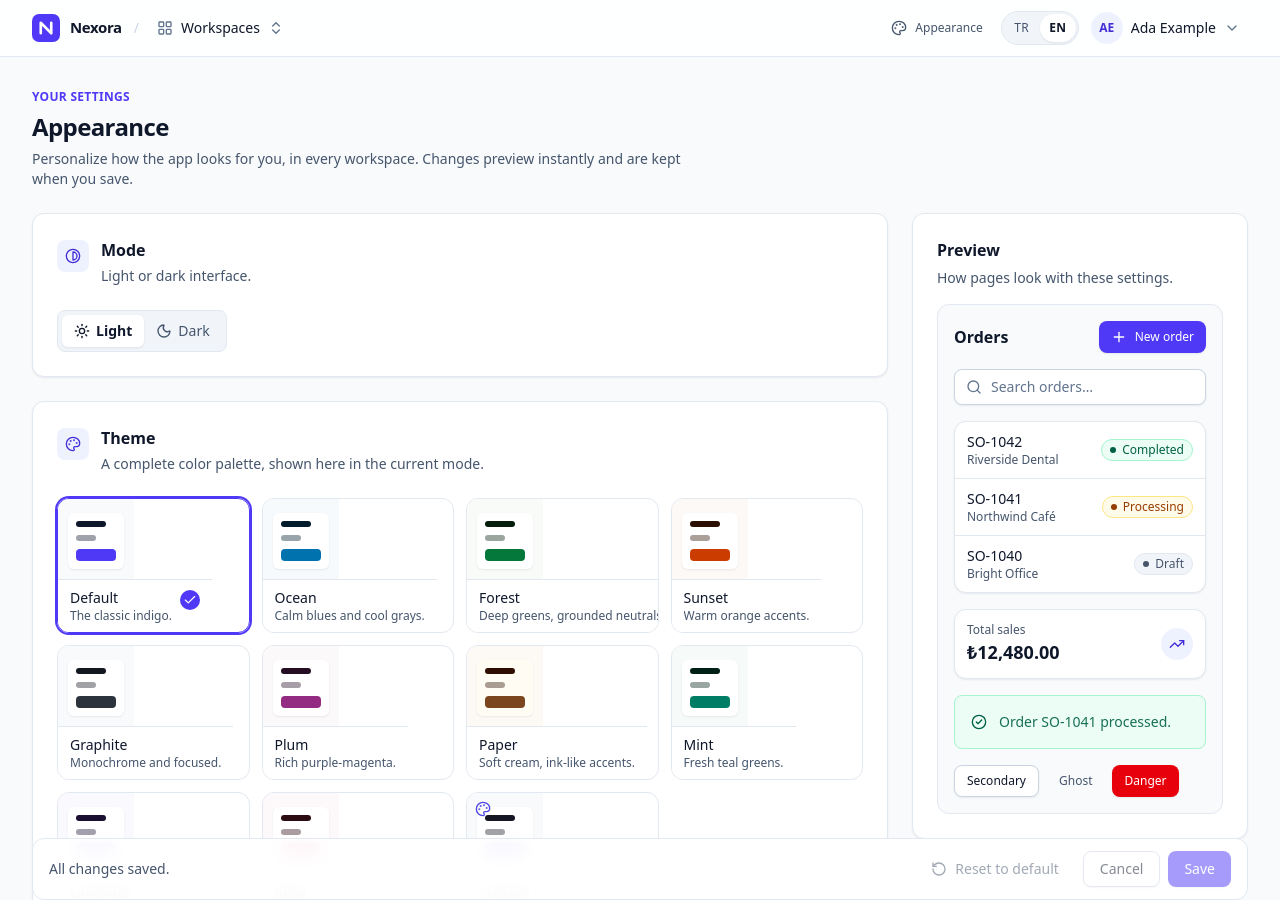
AppearancePage › saves the previewed appearance
Expected: the heading "Appearance" is shown, [32,110,169,143]
Click the radio button with aria-label "Sunset theme" at point(767, 566), box [670,498,863,633]
(page scrolled)
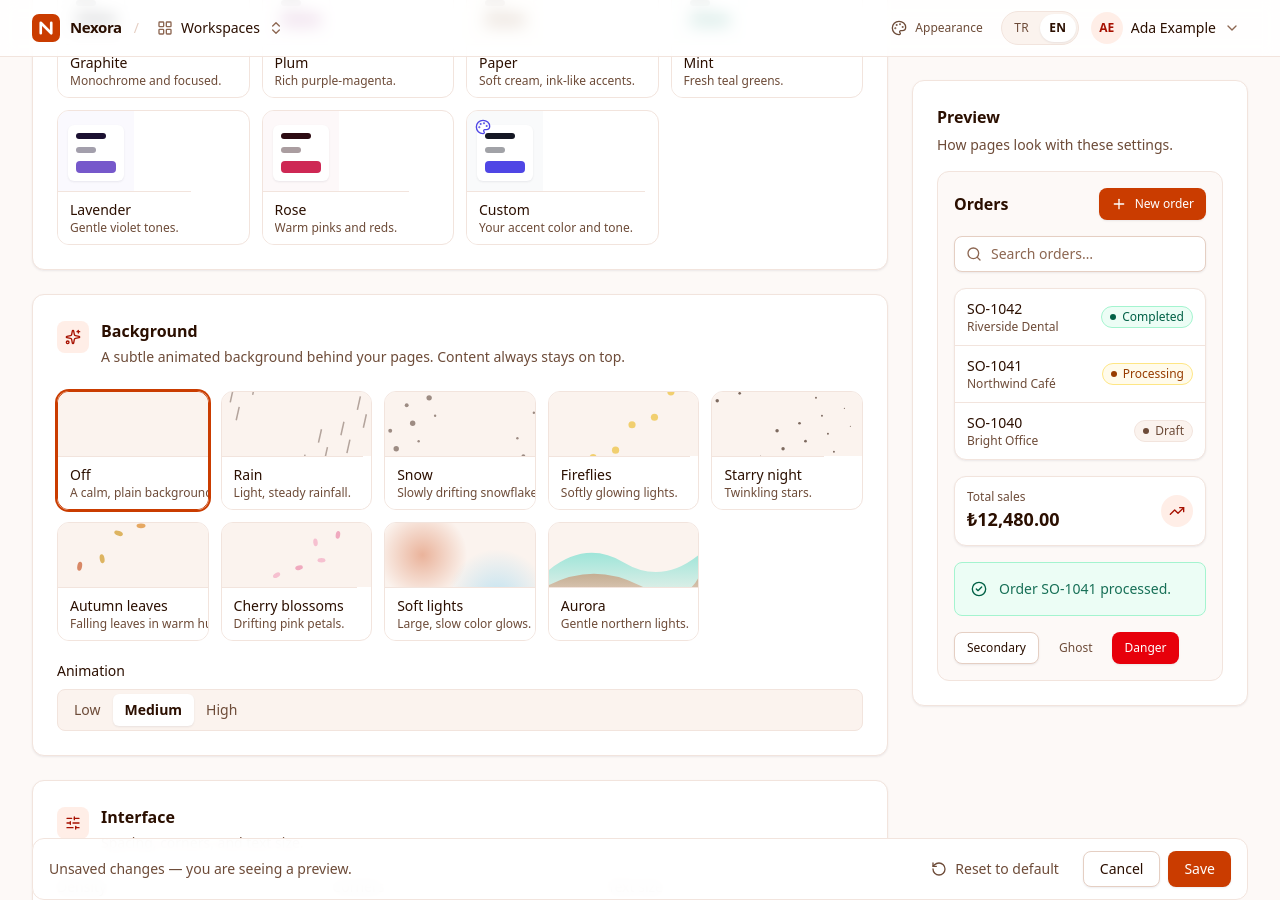
Click the radio button with aria-label "Snow background" at point(460, 450), box [384,391,536,510]
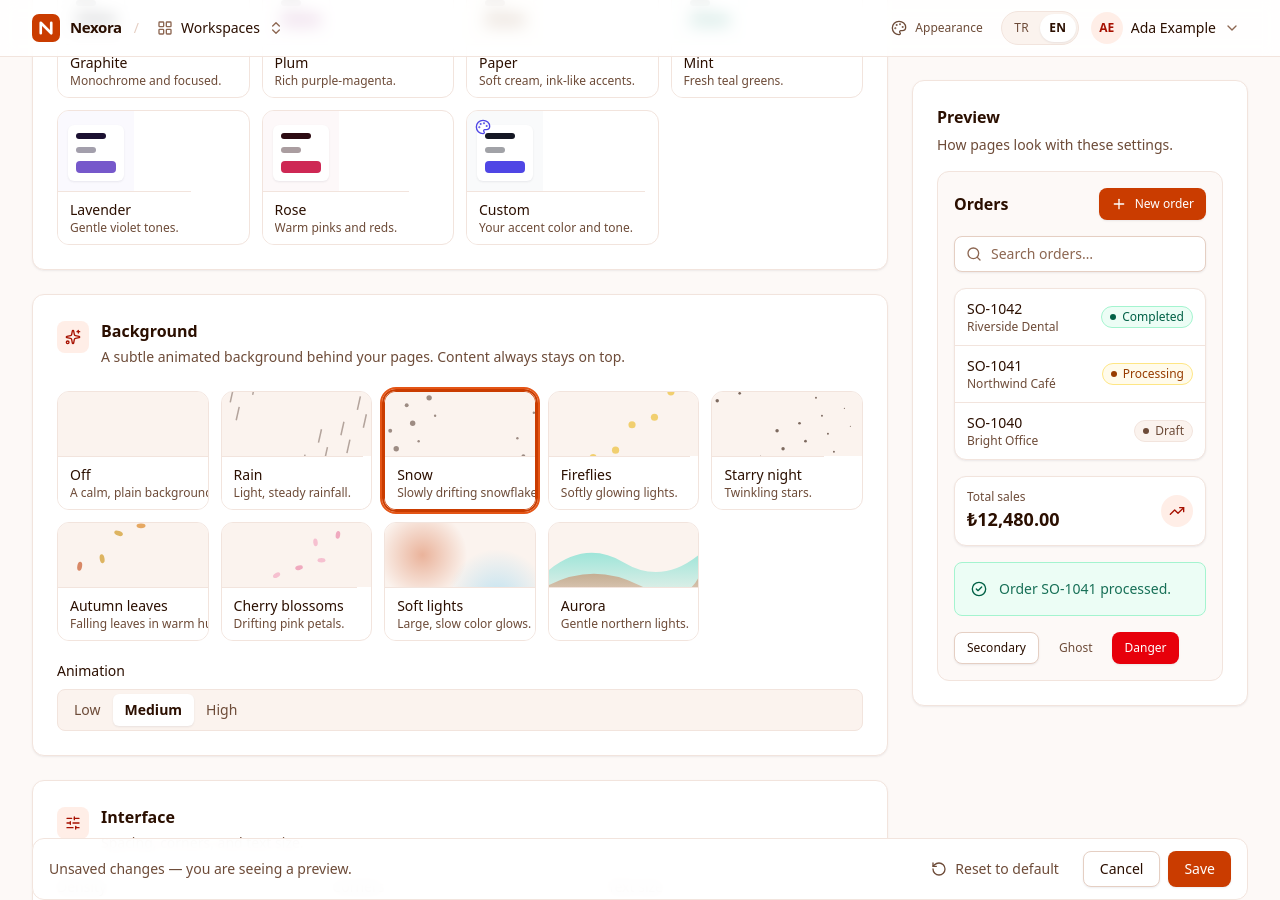
Click the radio button labelled "Low" at point(87, 710), box [62,694,112,726]
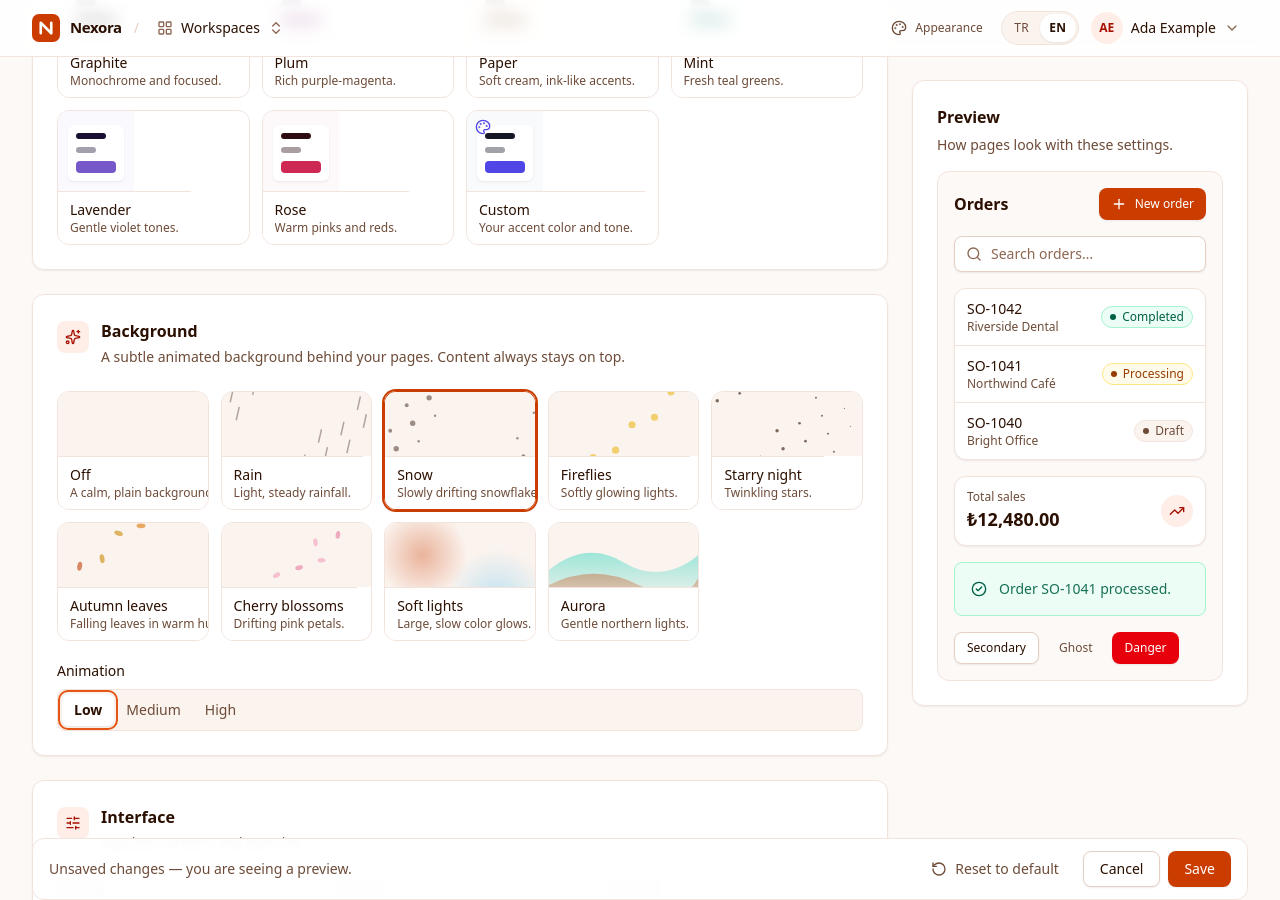
Click the button "Save" at point(1200, 869), box [1168,851,1231,887]
(page scrolled)
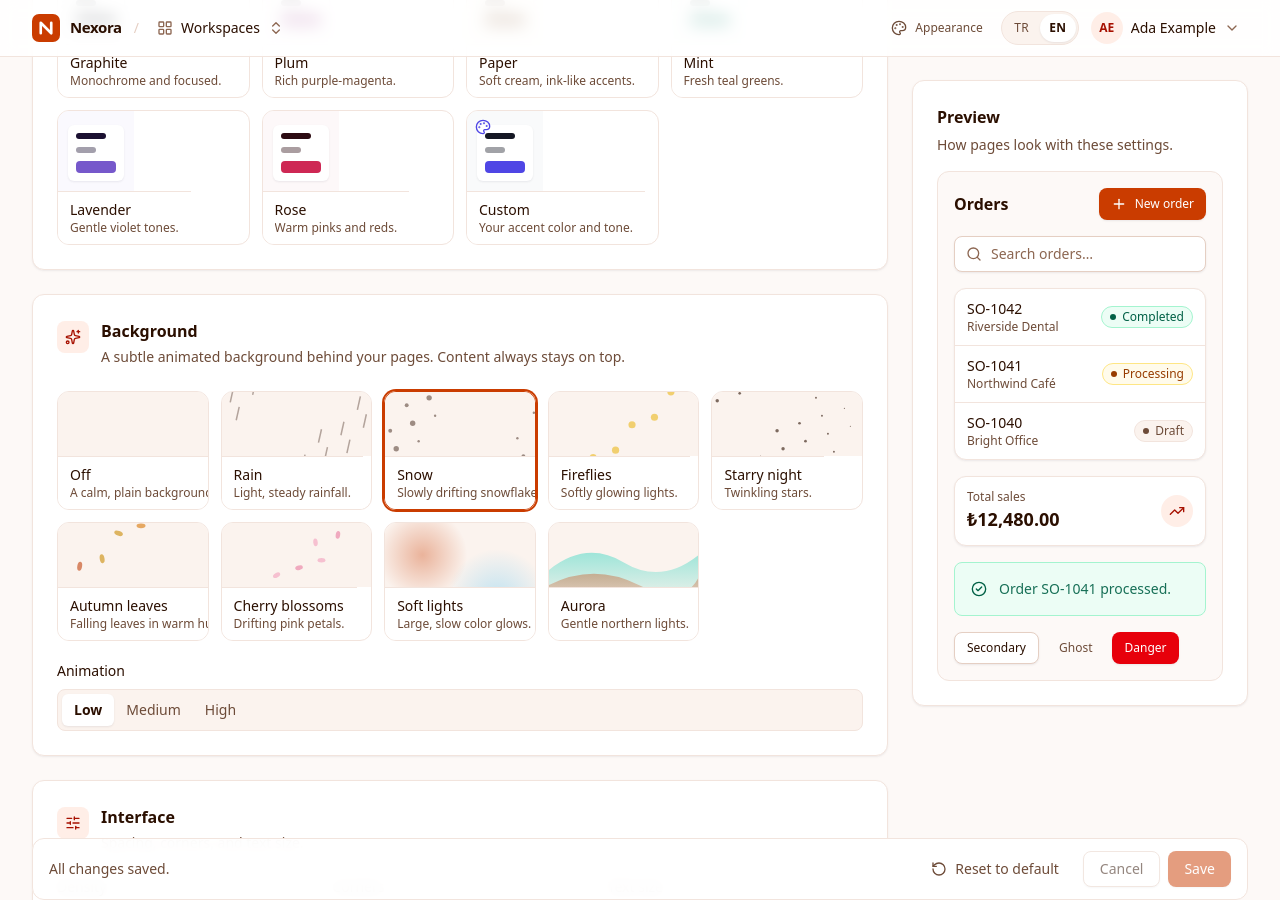
Expected: the text "All changes saved." is shown, [49,859,170,879]
Expected: the button "Save" is disabled, [1168,851,1231,887]
